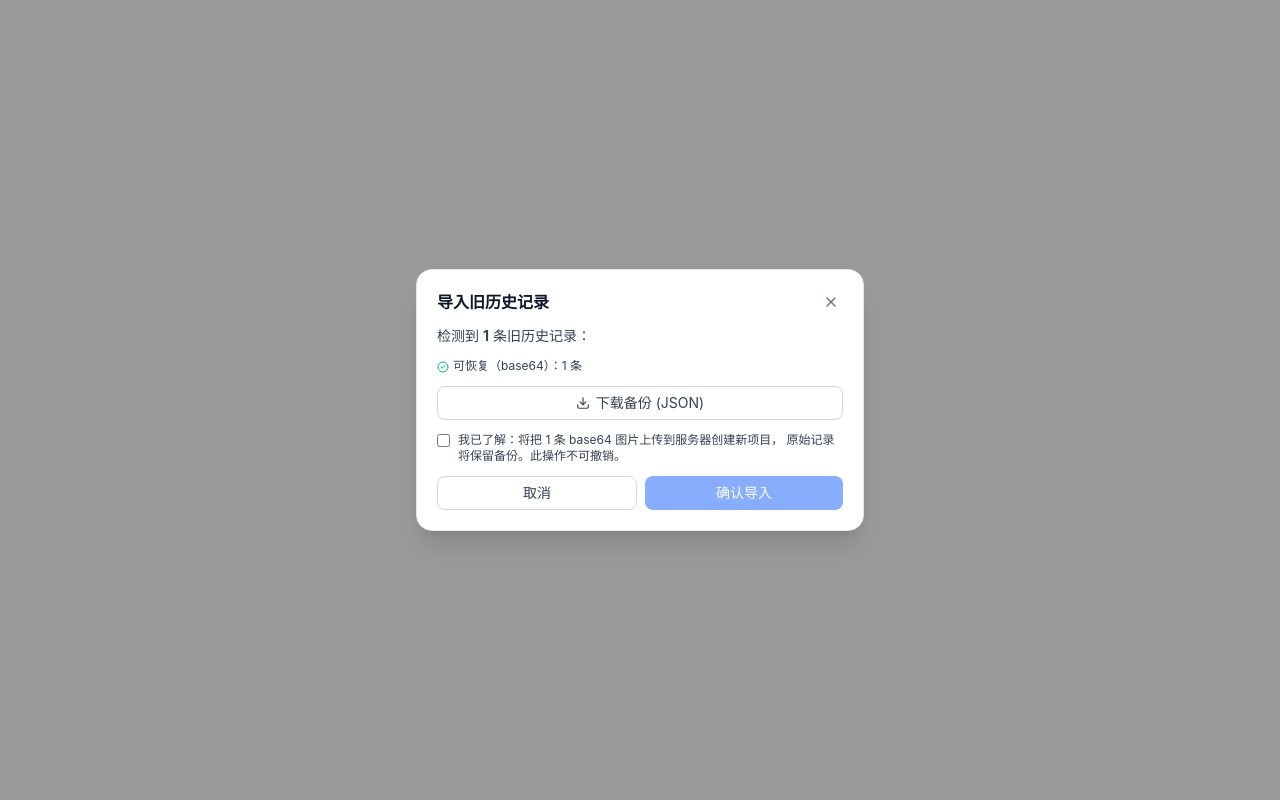
Test: LegacyHistoryImport (PERSIST-001 Task 10) › confirm import button is disabled until the confirmation checkbox is checked
Expected: the button "确认导入" is disabled, [645, 476, 843, 510]
Click the checkbox at coordinates (444, 440), box [437, 434, 450, 447]
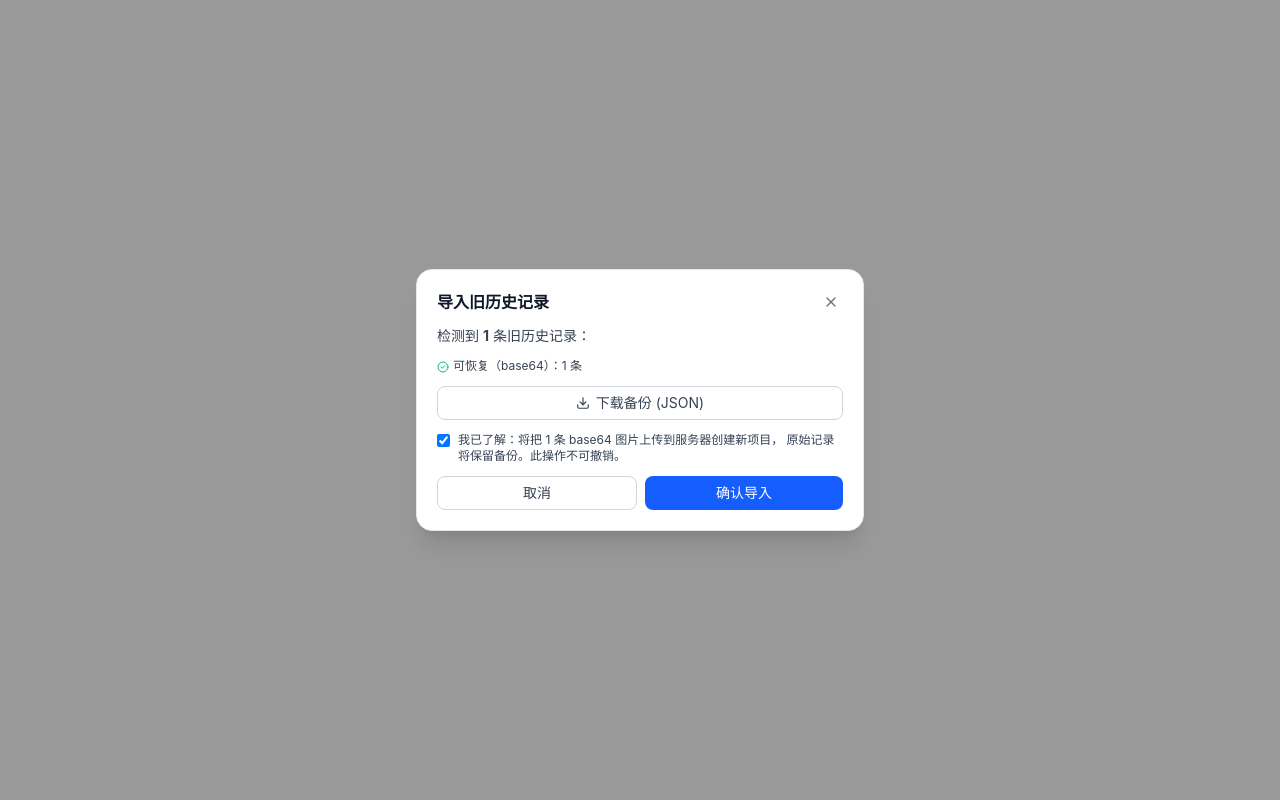
Now the button "确认导入" is enabled, box [645, 476, 843, 510]
